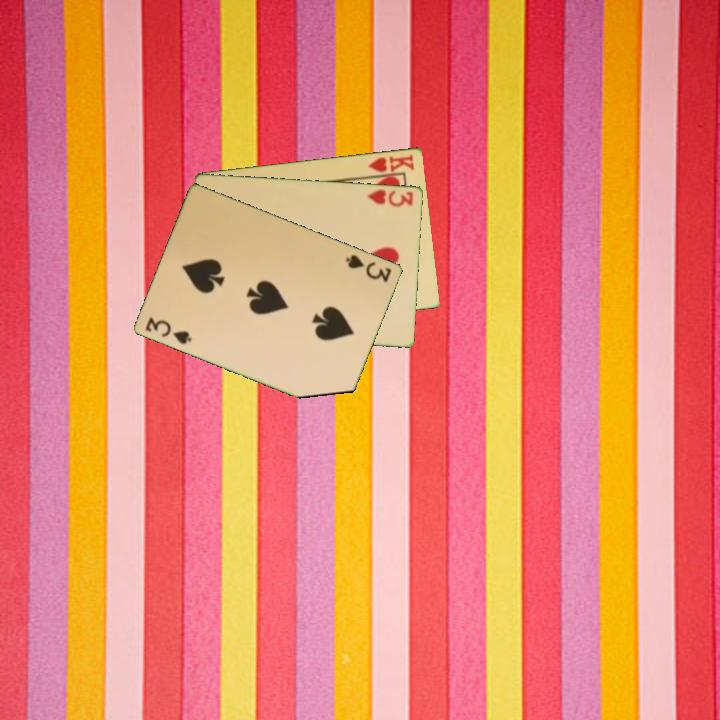3h: (364, 185, 416, 210)
3s: (342, 251, 395, 285), (142, 313, 195, 347)
Kh: (363, 151, 417, 179)
